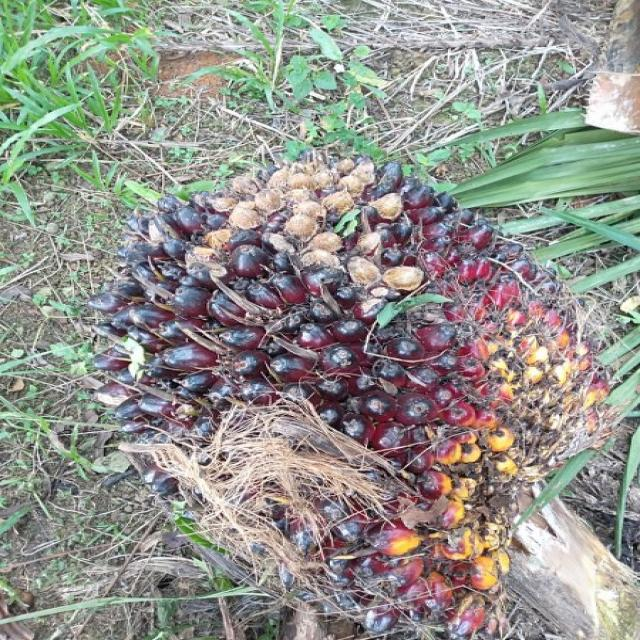fraksi 00: (84, 159, 612, 639)
